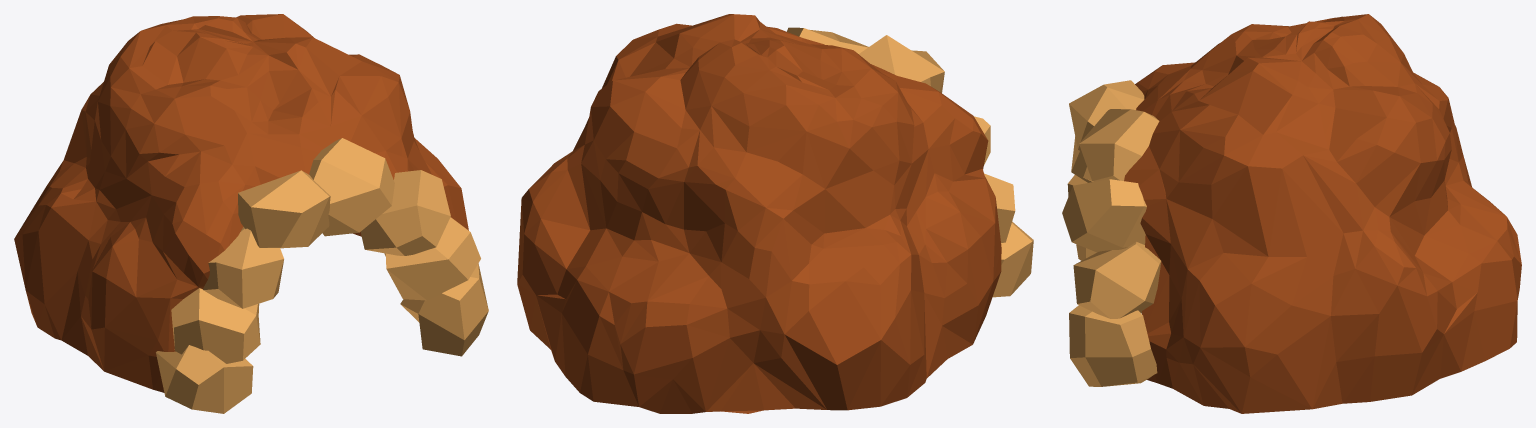
File: cave-new.fbx
The picture shows the model from 3 angles, left to right: view 1: azimuth 30°, elevation 25°; view 2: azimuth 150°, elevation 25°; view 3: azimuth 270°, elevation 25°; orthographic projection. The views are drawn at different scales.
Visible parts, largest first — view 1: cave; view 2: cave; view 3: cave.
Boxes of the visible parts, x1,y1,x2,y2 form: cave: [14, 14, 488, 413]; cave: [517, 14, 1033, 413]; cave: [1062, 14, 1521, 413].
Size of the model in its own units: 3.83 by 2.78 by 3.96.
